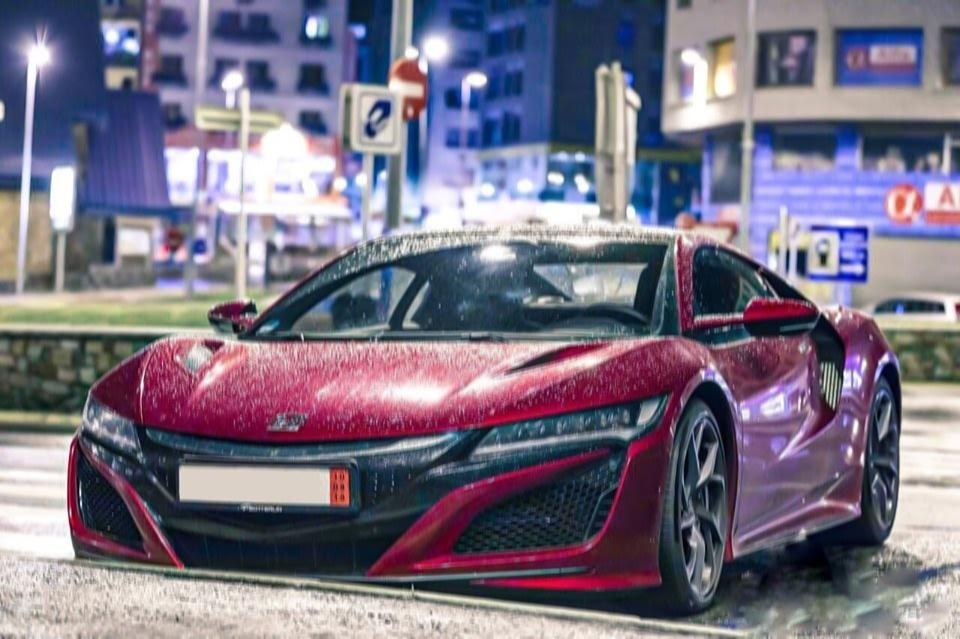Car hood: (84, 328, 683, 440)
Fender - -F-L-: (648, 323, 744, 455)
Fender - -R-L-: (834, 306, 897, 447)
Front bumper: (64, 421, 679, 590)
Headlight - -L-: (451, 392, 669, 464)
Headlight - -R-: (79, 389, 147, 466)
Passenger-s door - -F-L-: (674, 225, 855, 560)
Side bumper - -L-: (729, 479, 866, 580)
Side mirror - -L-: (690, 294, 824, 346)
Side mirror - -R-: (204, 298, 261, 339)
